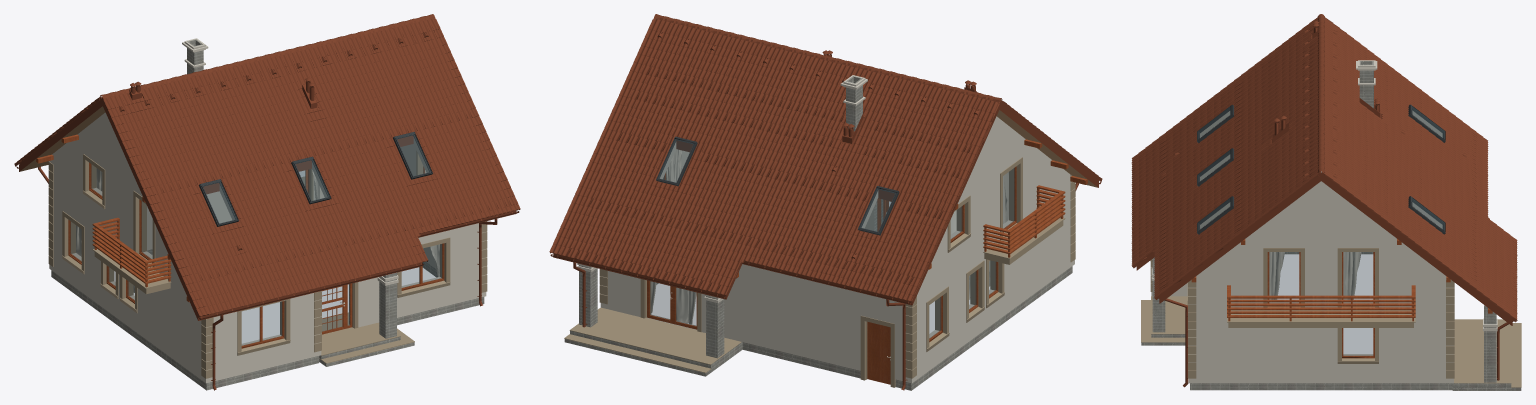
Rendered from house.glb.
3 renders of one model, left to right at view 1: azimuth 30°, elevation 25°; view 2: azimuth 150°, elevation 25°; view 3: azimuth 270°, elevation 25°, orthographic. The views are drawn at different scales.
Parts seen in each view (by area): view 1: house; view 2: house; view 3: house.
Part boxes in pixels (x1,y1,x2,y2): house: (14, 14, 520, 390); house: (549, 14, 1102, 390); house: (1131, 14, 1521, 390).
Size of the model in its own units: 13.7 by 9.08 by 13.66.
Materials: 9 (2 with a texture image).
